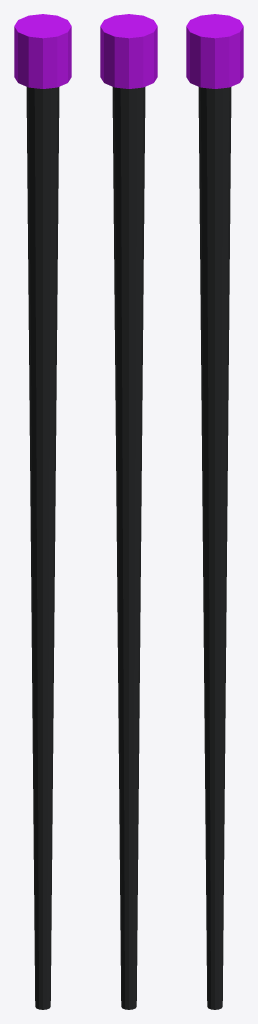
Rendered from SG_BastonPurple.fbx.
The picture shows the model from 3 angles, left to right: view 1: azimuth 30°, elevation 25°; view 2: azimuth 150°, elevation 25°; view 3: azimuth 330°, elevation 25°; orthographic projection.
Visible parts, largest first — view 1: baston; view 2: baston; view 3: baston.
Boxes of the visible parts, box(x1,y1,x2,y2) form: baston: box(14, 14, 71, 1009); baston: box(100, 14, 157, 1009); baston: box(186, 14, 243, 1009).
Bounding box in the file's own units: 0.0714 × 1.34 × 0.0714.
